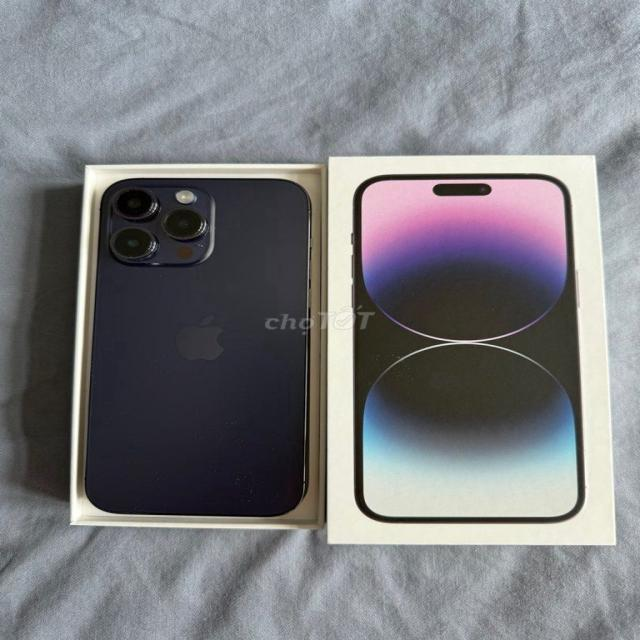gen_14: (72, 171, 321, 529)
